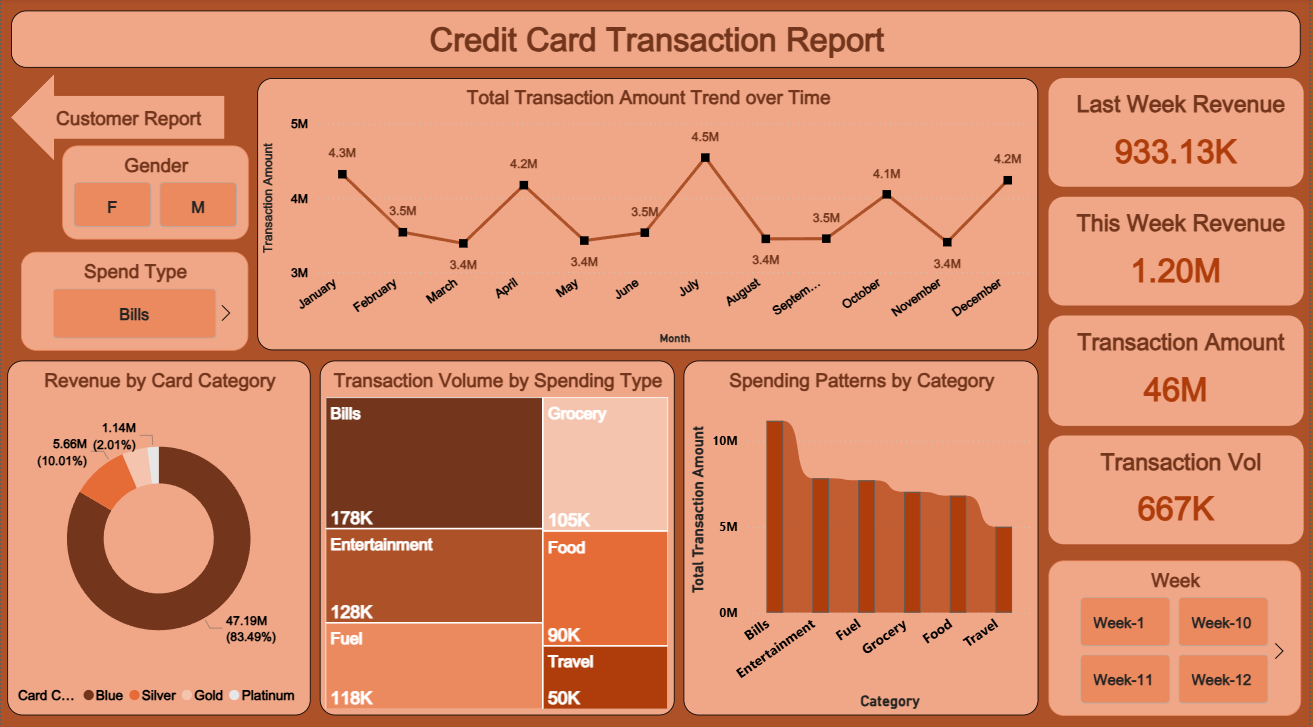

This screenshot's page, from the dashboard's own definition file:
{"tool":"powerbi","page":{"name":"Transaction","canvas":[1280,720],"ordinal":1},"visuals":[{"type":"textbox","title":"Credit Card Transaction Report","box":[9.8,12.8,1262,56.3],"z":0},{"type":"card","title":"Transaction Vol","fields":{"Values":["Sum(Sheet1.Total_Trans_Vol)"]},"box":[1024.7,428.2,249.5,106.4],"z":1000},{"type":"card","title":"Transaction Amount","fields":{"Values":["Sum(Sheet1.Total_Trans_Amt)"]},"box":[1024.7,310.8,249.5,107.6],"z":2000},{"type":"card","title":"This Week Revenue","fields":{"Values":["Sheet1.cur_week_revenue"]},"box":[1024.7,194.7,249.5,106.4],"z":3000},{"type":"card","title":"Last Week Revenue","fields":{"Values":["Sheet1.previous_week_revenue"]},"box":[1024.7,78.5,249.5,106.4],"z":4000},{"type":"shape","box":[9.8,74.6,209.1,84.4],"z":5000},{"type":"advancedSlicerVisual","fields":{"Values":["customer.Gender"]},"box":[59.4,144.8,182.2,91.7],"z":6000},{"type":"advancedSlicerVisual","fields":{"Values":["Sheet1.Week_Num"]},"box":[1024.7,550.3,247,151.6],"z":7000},{"type":"advancedSlicerVisual","fields":{"Values":["Sheet1.Exp Type"]},"box":[19.6,248.2,222.6,96.6],"z":8000},{"type":"lineChart","title":"Total Transaction Amount Trend over Time","fields":{"Category":["Sheet1.Week_Start_Date.Variation.Date Hierarchy.Month"],"Y":["Sum(Sheet1.Total_Trans_Amt)"]},"box":[250.7,78.3,764.3,266.6],"z":9000},{"type":"ribbonChart","title":"Spending Patterns by Category","fields":{"Category":["Sheet1.Exp Type"],"Y":["Sum(Sheet1.Total_Trans_Amt)"]},"box":[667.7,354.6,347.3,347.3],"z":10000},{"type":"donutChart","fields":{"Category":["Sheet1.Card_Category"],"Y":["Sheet1.Total Revenue"]},"box":[6.1,354.6,297.1,347.3],"z":11000},{"type":"treemap","fields":{"Group":["Sheet1.Exp Type"],"Values":["Sum(Sheet1.Total_Trans_Vol)"]},"box":[311.8,354.6,347.3,347.3],"z":12000}]}

Visuals, with their boxes in screenshot pixels (x1, y1, x2, y2), scaled from the page's 1280x720 canvas onto the 1313x727 screenshot:
"Credit Card Transaction Report" textbox: BBox(10, 13, 1305, 70)
"Transaction Vol" card: BBox(1051, 432, 1307, 540)
"Transaction Amount" card: BBox(1051, 314, 1307, 422)
"This Week Revenue" card: BBox(1051, 197, 1307, 304)
"Last Week Revenue" card: BBox(1051, 79, 1307, 187)
shape: BBox(10, 75, 225, 161)
advancedSlicerVisual - customer.Gender: BBox(61, 146, 248, 239)
advancedSlicerVisual - Sheet1.Week_Num: BBox(1051, 556, 1304, 709)
advancedSlicerVisual - Sheet1.Exp Type: BBox(20, 251, 248, 348)
"Total Transaction Amount Trend over Time" lineChart: BBox(257, 79, 1041, 348)
"Spending Patterns by Category" ribbonChart: BBox(685, 358, 1041, 709)
donutChart - Sheet1.Card_Category x Sheet1.Total Revenue: BBox(6, 358, 311, 709)
treemap - Sheet1.Exp Type x Sum(Sheet1.Total_Trans_Vol): BBox(320, 358, 676, 709)
